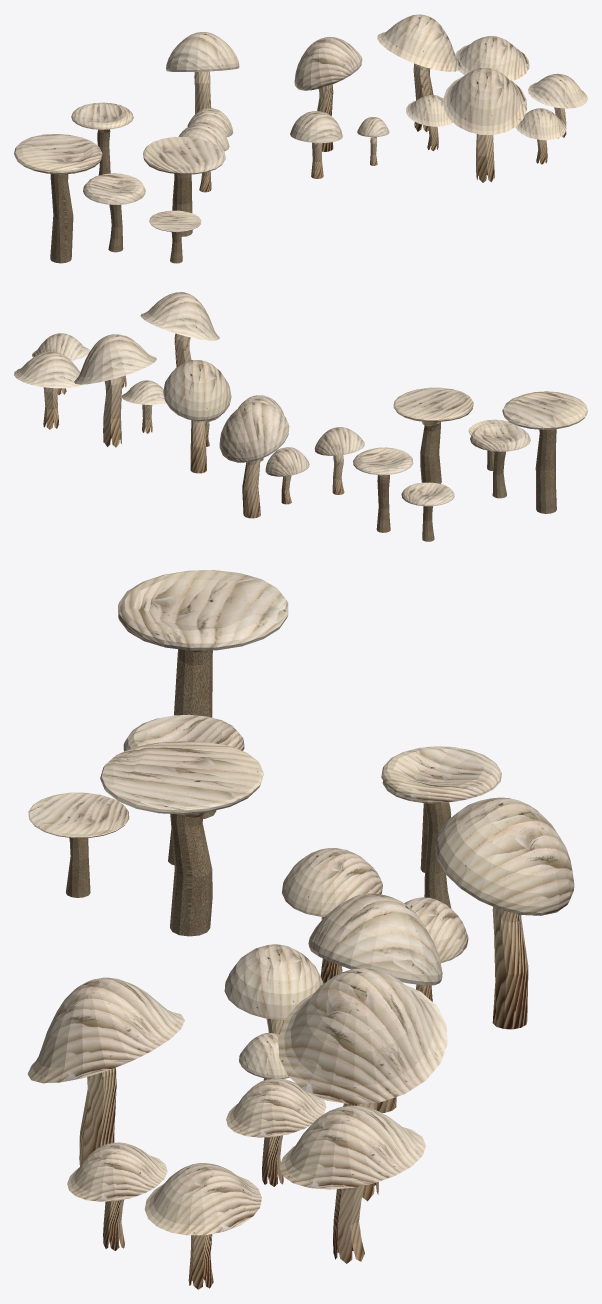
Rendered from jamur1.fbx.
The picture shows the model from 3 angles, top to bottom: view 1: azimuth 30°, elevation 25°; view 2: azimuth 150°, elevation 25°; view 3: azimuth 270°, elevation 25°; orthographic projection. The views are drawn at different scales.
Visible parts, largest first — view 1: 2, 1, 3; view 2: 1, 3, 2; view 3: 2, 1, 3.
Boxes of the visible parts, <box> form: 2: <box>377,14,587,182</box>; 1: <box>14,102,225,263</box>; 3: <box>166,32,389,192</box>; 1: <box>353,387,587,541</box>; 3: <box>163,360,364,518</box>; 2: <box>14,292,219,447</box>; 2: <box>27,968,447,1289</box>; 1: <box>28,570,501,936</box>; 3: <box>224,797,574,1112</box>.
Size of the model in its own units: 337 by 65.37 by 146.
